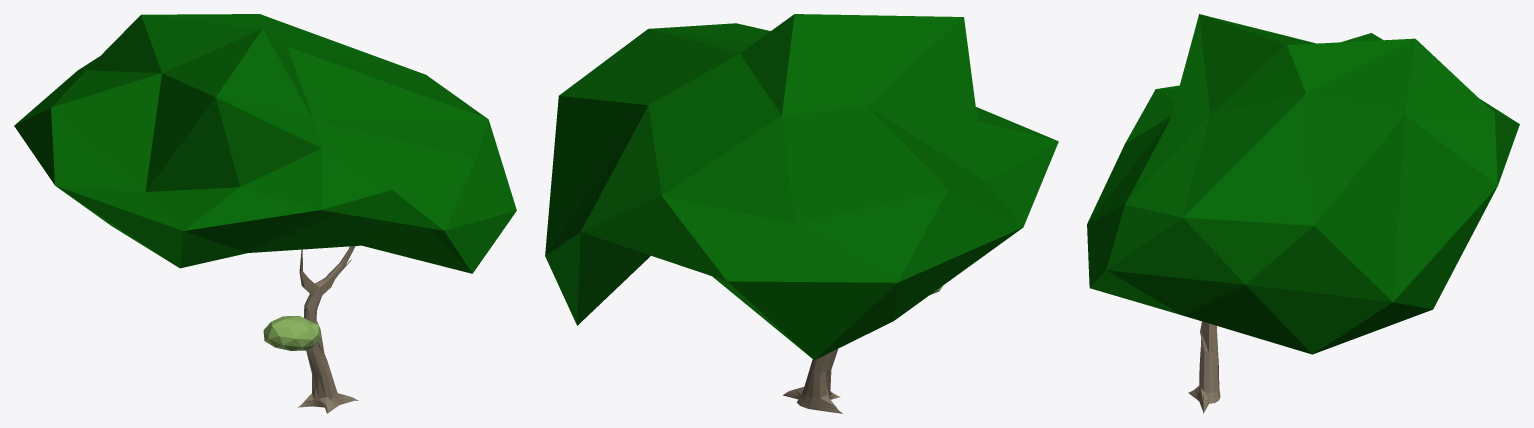
File: tree.glb
3 renders of one model, left to right at view 1: azimuth 30°, elevation 25°; view 2: azimuth 150°, elevation 25°; view 3: azimuth 270°, elevation 25°, orthographic. The views are drawn at different scales.
Parts seen in each view (by area): view 1: Icosphere#5, Cylinder#13, Icosphere.00#5; view 2: Icosphere#5, Cylinder#13; view 3: Icosphere#5, Cylinder#13.
Boxes of the visible parts, x1=… form: Icosphere#5: x1=14, y1=14, x2=516, y2=273; Cylinder#13: x1=298, y1=246, x2=358, y2=413; Icosphere.00#5: x1=263, y1=316, x2=321, y2=350; Icosphere#5: x1=545, y1=14, x2=1058, y2=360; Cylinder#13: x1=783, y1=349, x2=842, y2=413; Icosphere#5: x1=1087, y1=14, x2=1519, y2=354; Cylinder#13: x1=1188, y1=321, x2=1220, y2=413.
Size of the model in its own units: 7.54 by 6.56 by 7.48.
